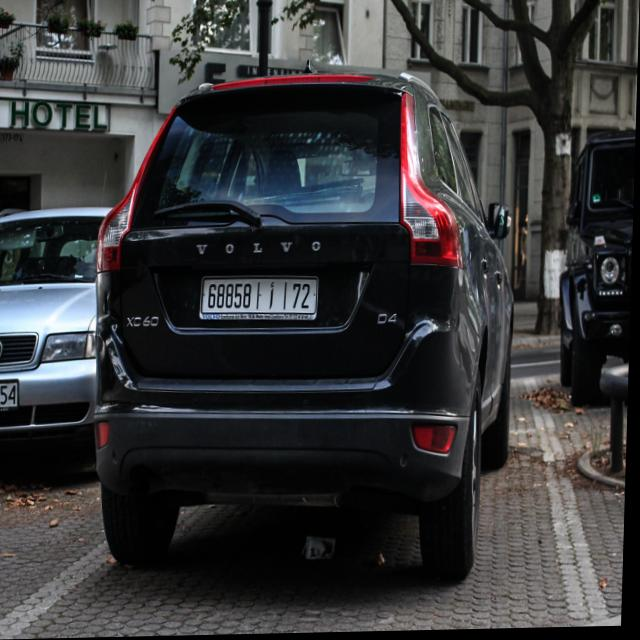License-Plate: (201, 277, 321, 322)
